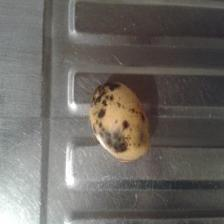Mango Semirotten: (84, 82, 151, 163)
